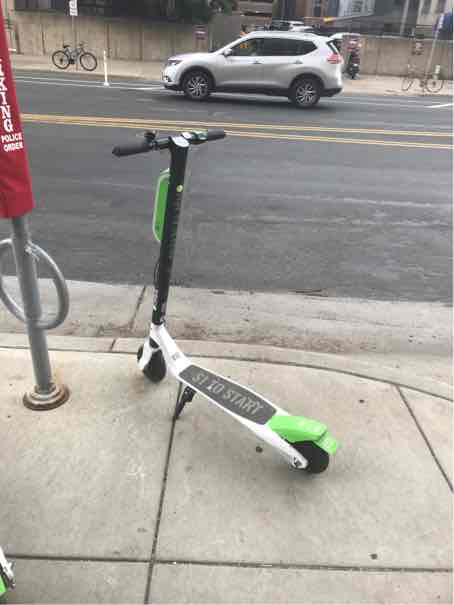scooter: (109, 120, 348, 481)
